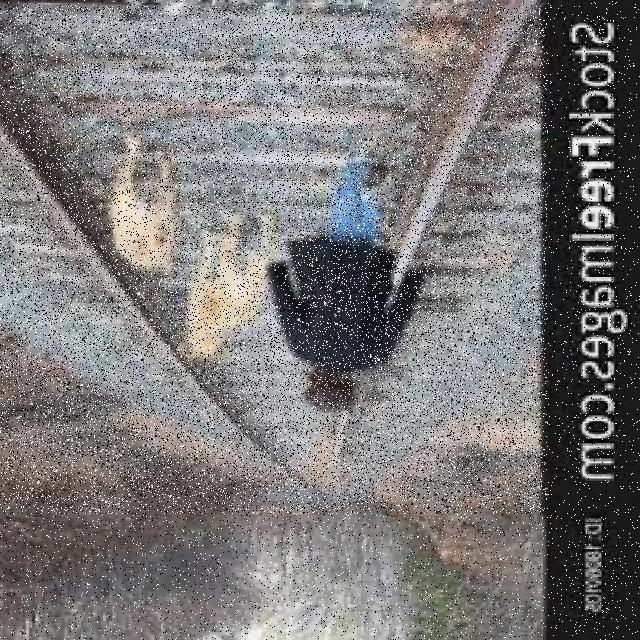danger: (274, 139, 412, 406), (107, 113, 208, 284), (189, 214, 274, 361)
rail: (1, 6, 547, 514)
